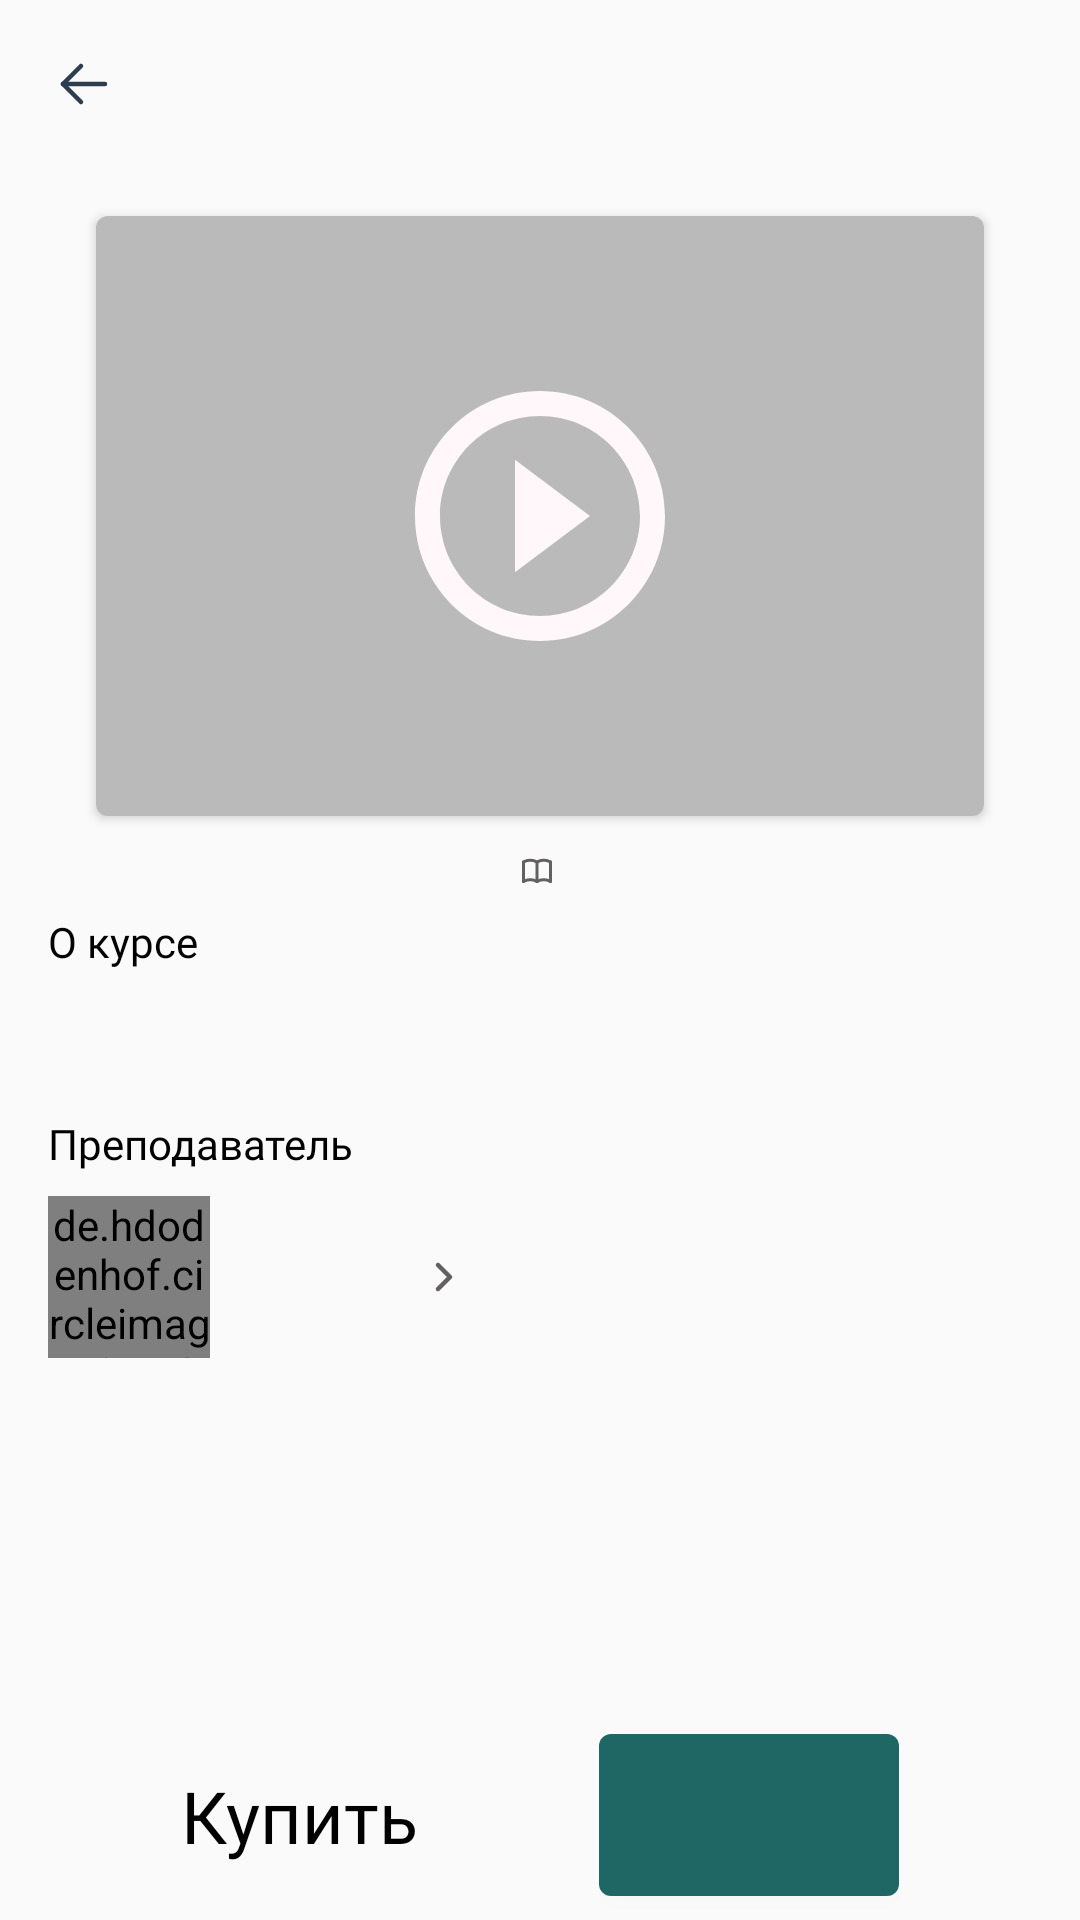

Screen size 1080w x 1920h. Icon name, then its center in pixels as (x=x, y=y):
book: (x=537, y=870)
next: (x=444, y=1277)
play: (x=540, y=516)
